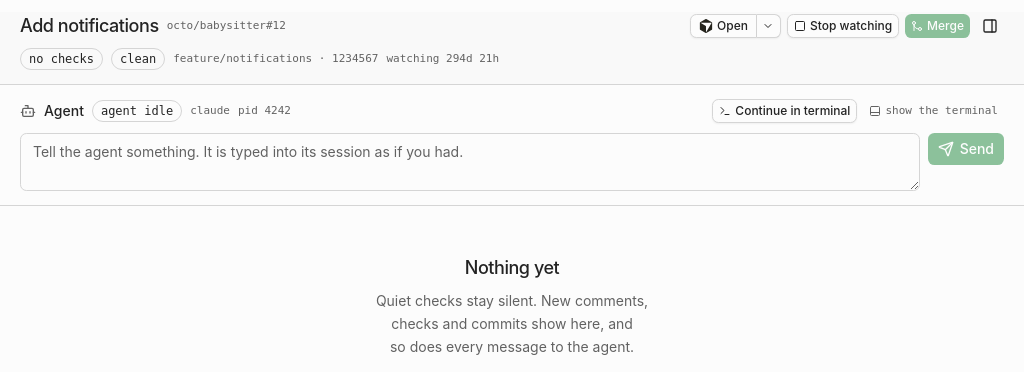
Test case: the menu lists each installed editor and the file manager
Click the button named "Open in…". click: [769, 26]
box: [757,14,781,38]
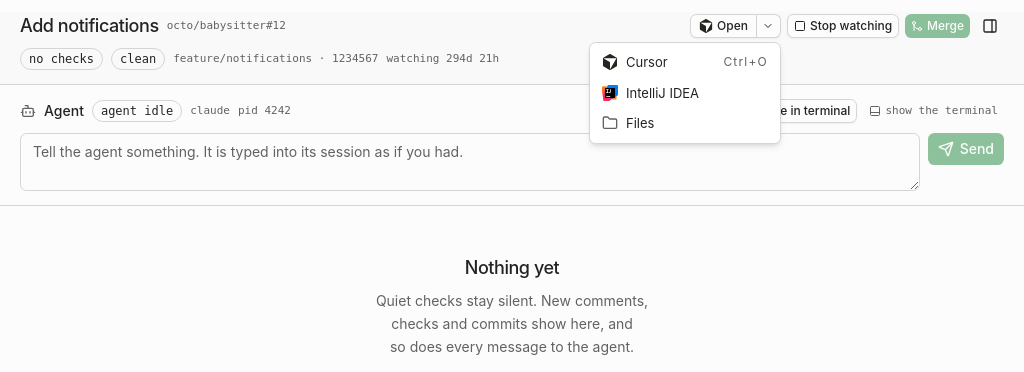
Expected: the menu items read "CursorCtrl+O", "IntelliJ IDEA", "Files", in this order, [602,54,768,70]; [602,85,699,101]; [602,115,654,131]
